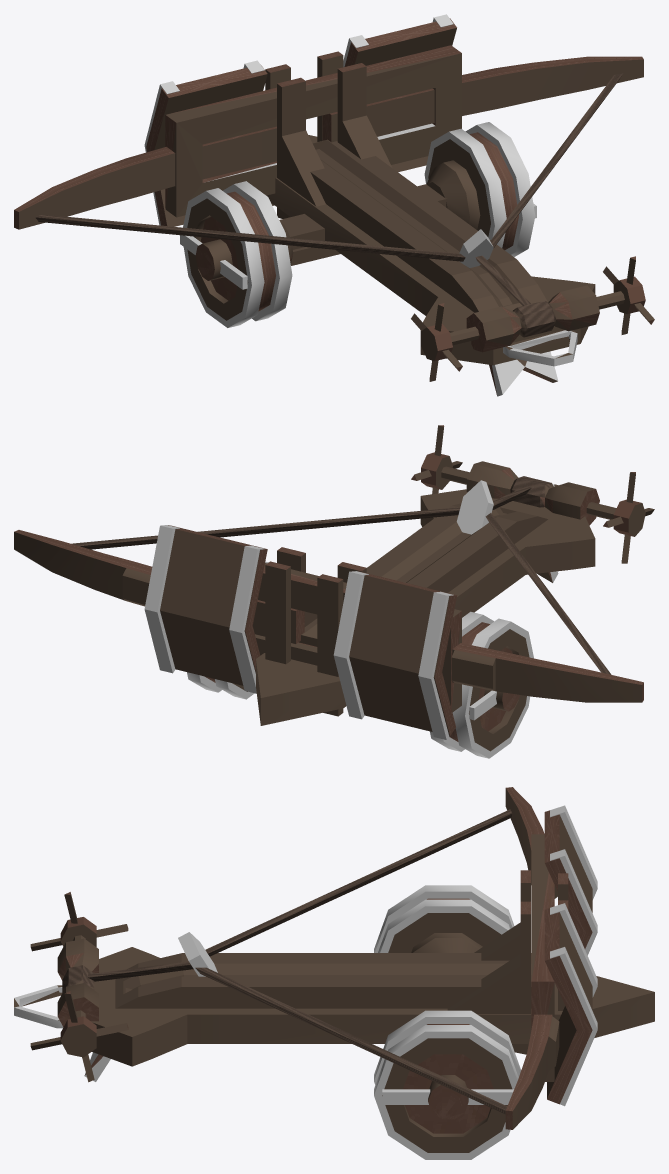
File: BALISTA_Weapon.fbx
The picture shows the model from 3 angles, top to bottom: view 1: azimuth 30°, elevation 25°; view 2: azimuth 150°, elevation 25°; view 3: azimuth 270°, elevation 25°; orthographic projection. The views are drawn at different scales.
Parts seen in each view (by area): view 1: HULL, L_WHEEL, R_WHEEL, R_BOW, L_BOW, B_LEVER, L_ROPE, R_ROPE, LOCK; view 2: HULL, B_LEVER, L_BOW, L_WHEEL, R_BOW, R_ROPE, L_ROPE, LOCK, R_WHEEL; view 3: HULL, R_WHEEL, L_WHEEL, B_LEVER, R_BOW, R_ROPE, L_ROPE, L_BOW, M_ROPE, LOCK.
Boxes of the visible parts, <box> form: HULL: <box>144,14,595,396</box>; L_WHEEL: <box>180,181,293,327</box>; R_WHEEL: <box>424,122,536,256</box>; R_BOW: <box>322,56,643,142</box>; L_BOW: <box>14,126,276,229</box>; B_LEVER: <box>411,256,654,381</box>; L_ROPE: <box>35,214,465,261</box>; R_ROPE: <box>490,73,622,247</box>; LOCK: <box>459,229,493,268</box>; HULL: <box>144,484,595,739</box>; B_LEVER: <box>411,425,654,563</box>; L_BOW: <box>451,643,643,702</box>; L_WHEEL: <box>430,611,533,758</box>; R_BOW: <box>14,530,304,643</box>; R_ROPE: <box>71,507,460,549</box>; L_ROPE: <box>485,513,611,674</box>; LOCK: <box>456,480,493,534</box>; R_WHEEL: <box>187,561,268,699</box>; HULL: <box>14,805,654,1106</box>; R_WHEEL: <box>374,1010,521,1159</box>; L_WHEEL: <box>374,885,514,952</box>; B_LEVER: <box>30,892,128,1082</box>; R_BOW: <box>505,1014,559,1129</box>; R_ROPE: <box>195,967,507,1114</box>; L_ROPE: <box>205,809,512,956</box>; L_BOW: <box>505,787,557,898</box>; M_ROPE: <box>88,961,193,981</box>; LOCK: <box>178,932,217,976</box>.
Size of the model in its own units: 938 by 280 by 784.
6 materials, 3 textured.
